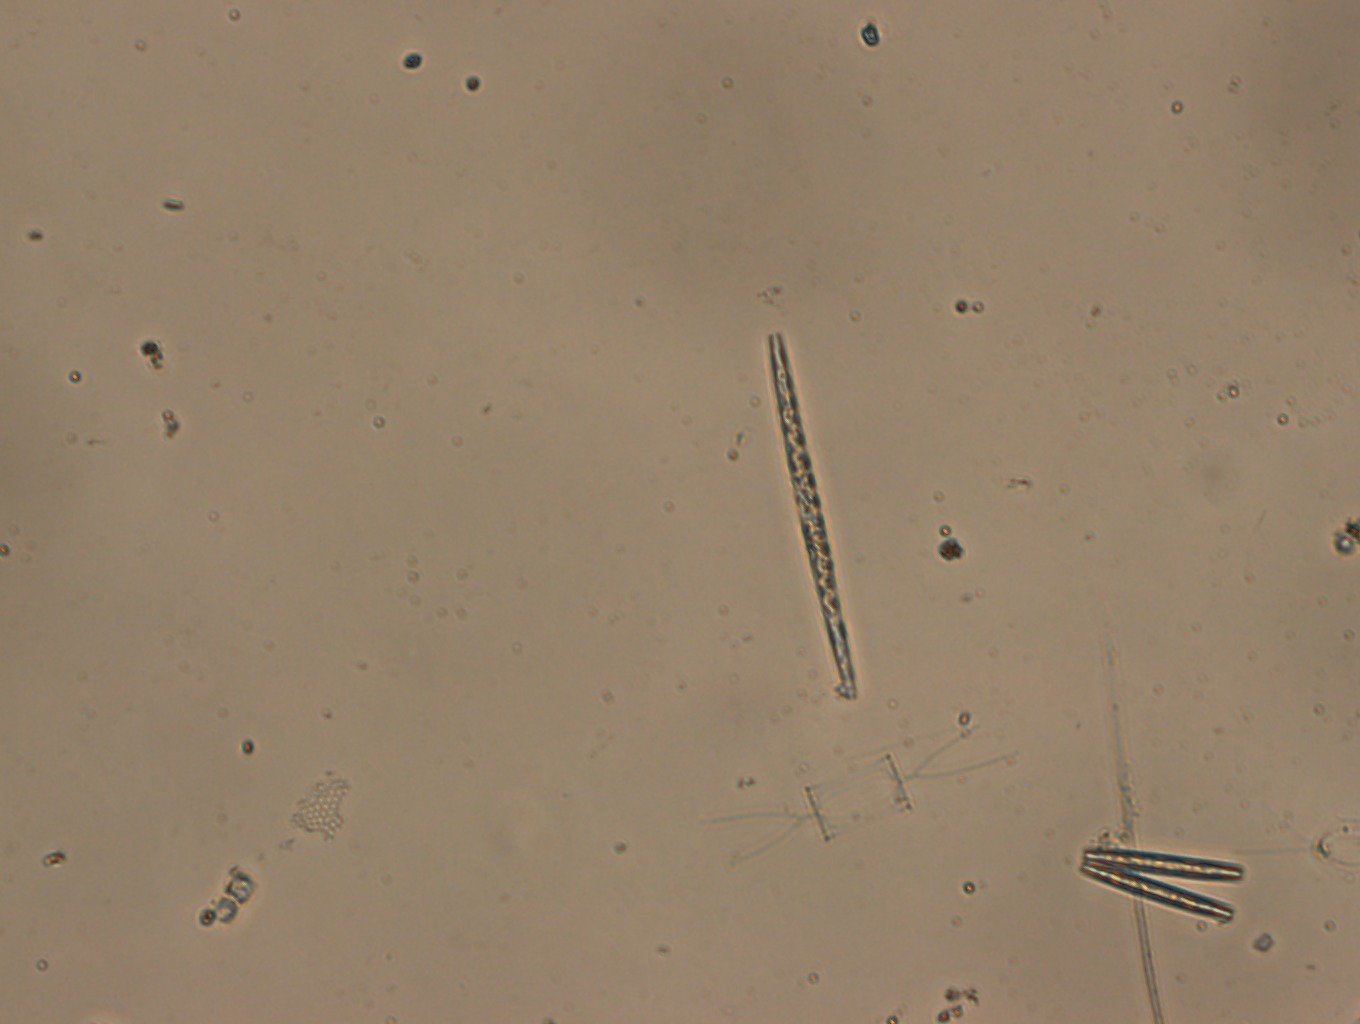chaetoceros: (691, 701, 1030, 870)
thalassionema frauenfeldii: (743, 328, 876, 698), (1074, 830, 1248, 926)
